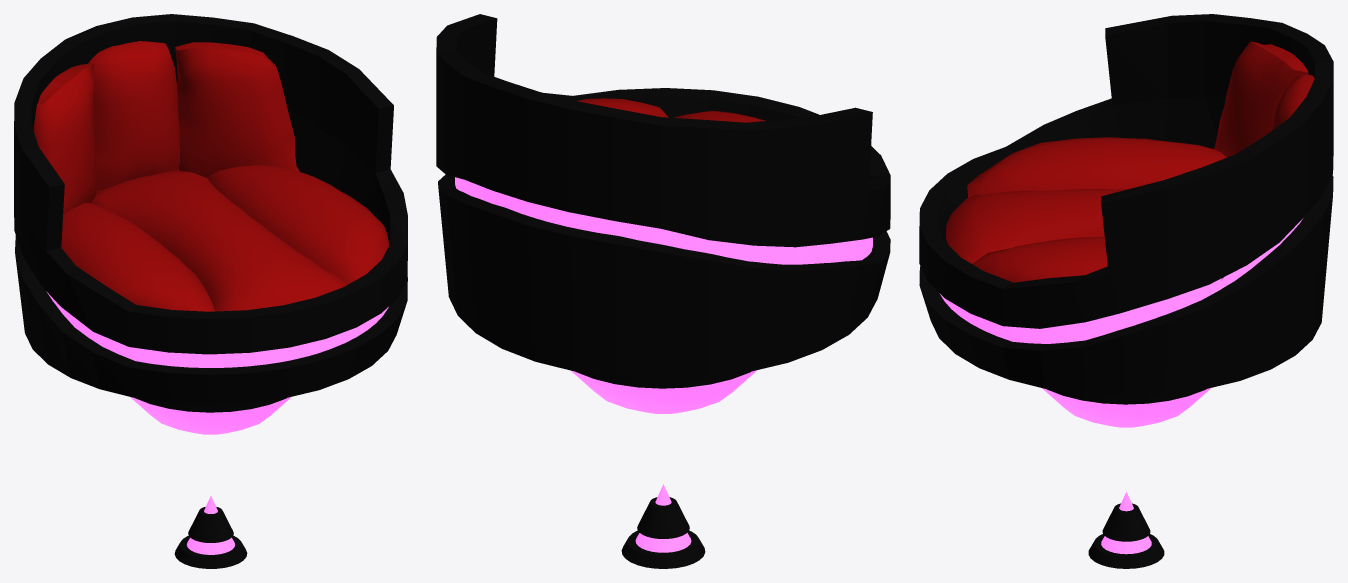
Rendered from B_chairfloat_ low_Jan12.fbx.
3 renders of one model, left to right at view 1: azimuth 30°, elevation 25°; view 2: azimuth 150°, elevation 25°; view 3: azimuth 270°, elevation 25°, orthographic. The views are drawn at different scales.
Visible parts, largest first — view 1: chair_1_low; view 2: chair_1_low; view 3: chair_1_low.
Part boxes in pixels (<box>): chair_1_low: <box>14,14,407,568</box>; chair_1_low: <box>436,14,890,568</box>; chair_1_low: <box>919,14,1333,568</box>.
Bounding box in the file's own units: 83.17 × 107 × 82.75.
